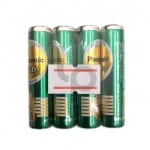Battery: (101, 23, 127, 129), (51, 24, 77, 130), (76, 24, 101, 130), (27, 24, 51, 130)
